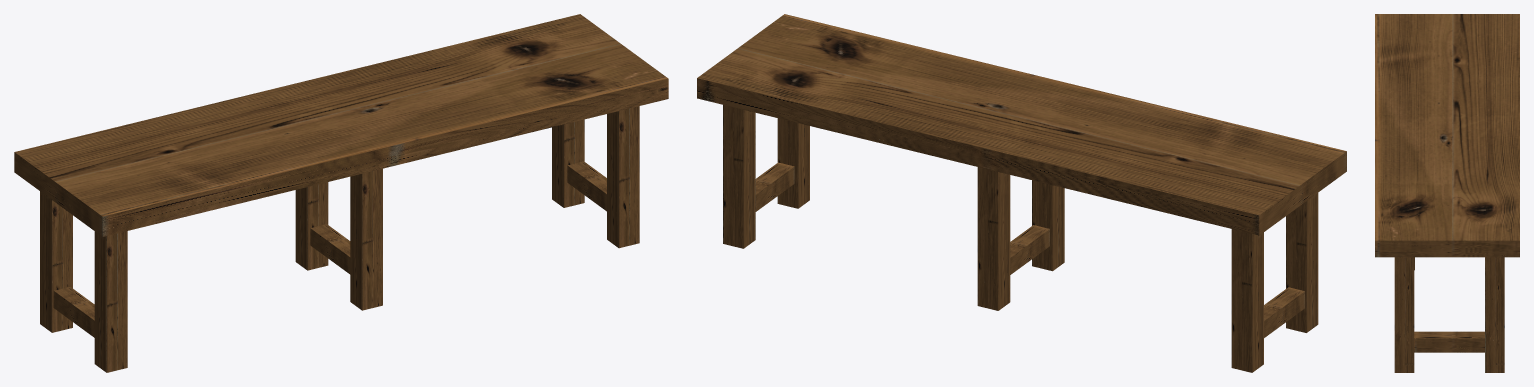
Rendered from Stting Bench.fbx.
3 renders of one model, left to right at view 1: azimuth 30°, elevation 25°; view 2: azimuth 150°, elevation 25°; view 3: azimuth 270°, elevation 25°, orthographic. The views are drawn at different scales.
Parts seen in each view (by area): view 1: BenchLeg5; view 2: BenchLeg5; view 3: BenchLeg5.
Part boxes in pixels (x1,y1,x2,y2): BenchLeg5: (14,14,668,372); BenchLeg5: (697,14,1346,372); BenchLeg5: (1375,14,1519,372).
Size of the model in its own units: 7195 by 2058 by 1942.
Materials: 1 (1 with a texture image).
